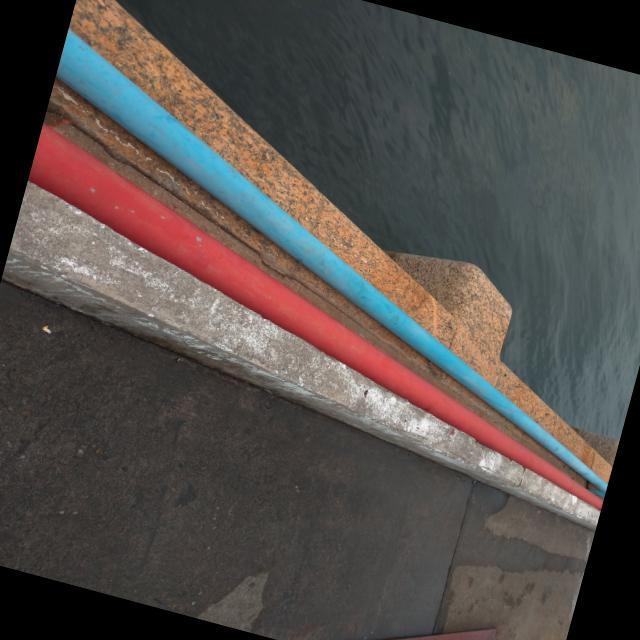gas: (55, 29, 608, 492), (27, 125, 603, 510)
